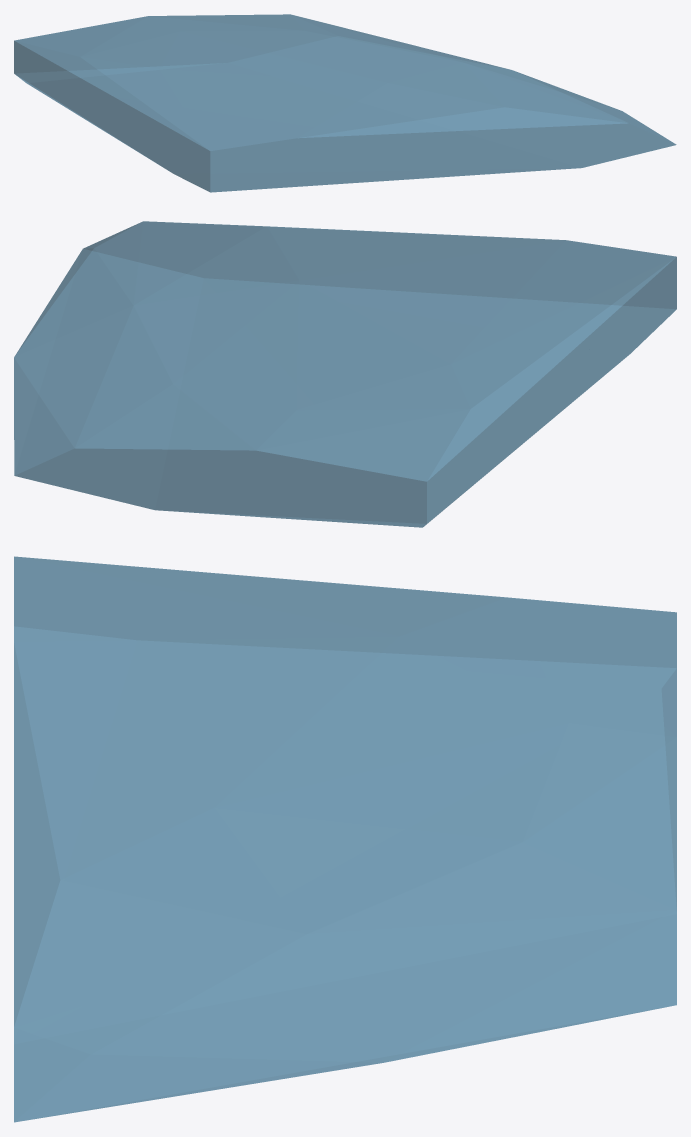
The picture shows the model from 3 angles, top to bottom: view 1: azimuth 30°, elevation 25°; view 2: azimuth 150°, elevation 25°; view 3: azimuth 270°, elevation 25°; orthographic projection. The views are drawn at different scales.
Visible parts, largest first — view 1: Shape_IndexedFaceSet.029_Shape_IndexedFaceSet.11173; view 2: Shape_IndexedFaceSet.029_Shape_IndexedFaceSet.11173; view 3: Shape_IndexedFaceSet.029_Shape_IndexedFaceSet.11173.
Part boxes in pixels (bbox=[...]): Shape_IndexedFaceSet.029_Shape_IndexedFaceSet.11173: bbox=[14, 14, 676, 192]; Shape_IndexedFaceSet.029_Shape_IndexedFaceSet.11173: bbox=[14, 221, 676, 527]; Shape_IndexedFaceSet.029_Shape_IndexedFaceSet.11173: bbox=[14, 556, 676, 1122].
Bounding box in the file's own units: 0.1937 × 0.0427 × 0.1412.
